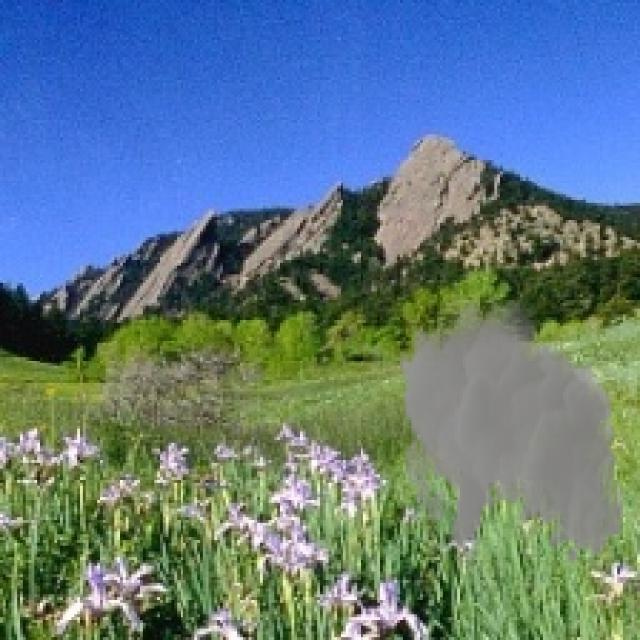Smoke: (397, 288, 626, 566)
